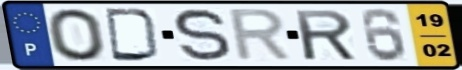6: (359, 6, 409, 64)
D: (102, 7, 163, 64)
O: (44, 7, 110, 63)
R: (227, 7, 296, 64), (291, 8, 360, 63)
S: (171, 6, 235, 63)
